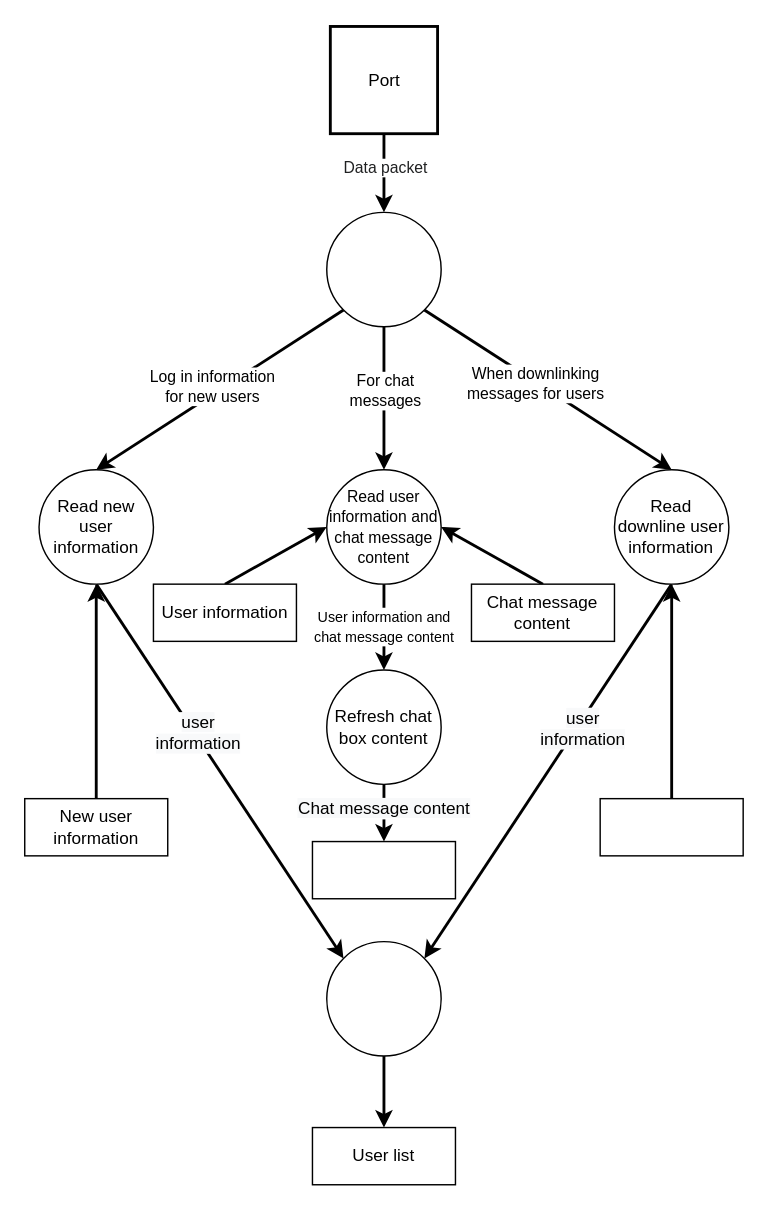
Some shapes in this 769 by 1210 pixel diagram are drawn without their labels. The shapes that lost their labels are listed below. From the top down, each one's centre as x and y in pixels, then its label:
(x=383, y=269): Receive input
(x=671, y=826): Downline user information
(x=383, y=869): Chat box content
(x=383, y=998): Refresh user list
